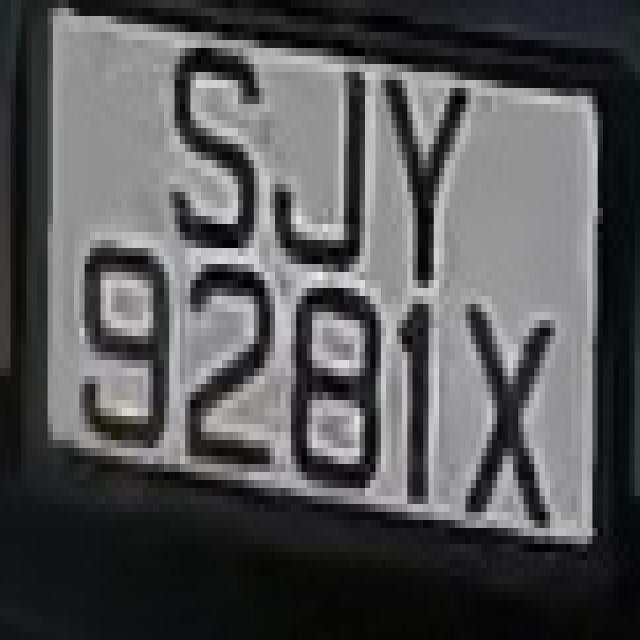1: (392, 264, 444, 560)
2: (174, 216, 280, 488)
8: (286, 240, 386, 520)
9: (74, 232, 175, 480)
J: (280, 40, 376, 280)
S: (158, 32, 270, 264)
X: (455, 264, 561, 560)
Y: (381, 40, 481, 280)
